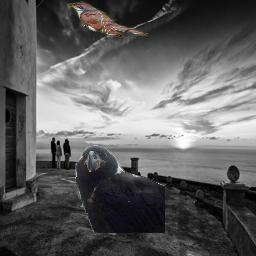Crow: (74, 145, 165, 233)
Cuckoo: (67, 0, 151, 41)
